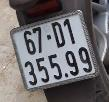1: (62, 16, 78, 48)
3: (22, 59, 41, 91)
5: (45, 52, 65, 82), (34, 55, 53, 86)
6: (20, 30, 38, 59)
7: (30, 27, 47, 56)
9: (75, 44, 96, 78), (62, 50, 83, 79)
D: (50, 19, 69, 50)
